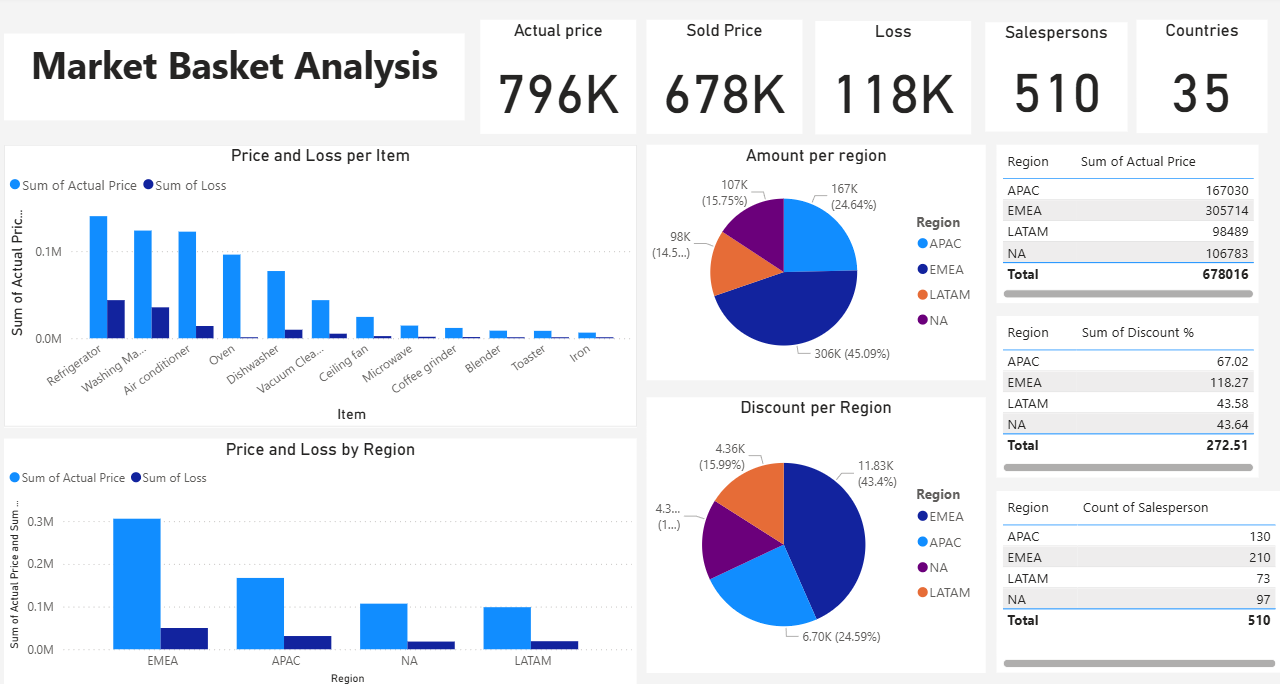

What the dashboard file says about the page in this screenshot:
{"tool":"powerbi","page":{"name":"Page 1","canvas":[1280,720],"ordinal":0},"visuals":[{"type":"card","title":"Sold Price","fields":{"Values":["Sum(Sheet1.Actual Price)"]},"box":[649.1,23.3,155.1,113.9],"z":0},{"type":"pieChart","title":"Amount per region","fields":{"Y":["Sum(Sheet1.Actual Price)"],"Series":["Sheet1.Region"]},"box":[649.1,148.2,337.6,234.6],"z":1000},{"type":"clusteredColumnChart","title":" Price and Loss per Item","fields":{"Category":["Sheet1.Item"],"Y":["Sum(Sheet1.Actual Price)","Sum(Sheet1.Loss)"]},"box":[9.6,148.2,629.8,281.3],"z":2000},{"type":"pieChart","title":" Discount per Region","fields":{"Y":["Sum(Sheet1.Discount)"],"Category":["Sheet1.Region"]},"box":[649.1,399.3,337.6,274.4],"z":3000},{"type":"clusteredColumnChart","title":"Price and Loss by Region","fields":{"Y":["Sum(Sheet1.Actual Price)","Sum(Sheet1.Loss)"],"Category":["Sheet1.Region"]},"box":[9.6,440.5,629.8,249.7],"z":4000},{"type":"card","title":"Actual price","fields":{"Values":["Sum(Sheet1.List Price)"]},"box":[484.4,23.3,155.1,113.9],"z":5000},{"type":"card","title":"Loss","fields":{"Values":["Sum(Sheet1.Loss)"]},"box":[817.8,24.7,155.1,112.5],"z":6000},{"type":"textbox","box":[9.6,37,458.3,86.4],"z":7000},{"type":"tableEx","fields":{"Values":["Sheet1.Region","Sum(Sheet1.Actual Price)"]},"box":[997.6,148.2,260.7,157.8],"z":8000},{"type":"tableEx","fields":{"Values":["Sheet1.Region","Sum(Sheet1.Discount %)"]},"box":[997.6,318.4,260.7,160.5],"z":9000},{"type":"card","title":"Salespersons","fields":{"Values":["Count(Sheet1.Salesperson)"]},"box":[986.6,26.1,141.3,108.4],"z":10000},{"type":"card","title":"Countries","fields":{"Values":["Count(Sheet1.Country)"]},"box":[1137.6,23.3,130.4,112.5],"z":11000},{"type":"tableEx","fields":{"Values":["Sheet1.Region","Sheet1.Salesperson"]},"box":[997.6,492.6,282.7,181.1],"z":12000}]}

Visuals, with their boxes on the page's 1280x720 design canvas (x1, y1, x2, y2). These are canvas units, not pixel positions in the 1280x684 screenshot, which may show the page scaled, cropped or inside an application window:
"Sold Price" card: rect(649, 23, 804, 137)
"Amount per region" pieChart: rect(649, 148, 987, 383)
" Price and Loss per Item" clusteredColumnChart: rect(10, 148, 639, 430)
" Discount per Region" pieChart: rect(649, 399, 987, 674)
"Price and Loss by Region" clusteredColumnChart: rect(10, 440, 639, 690)
"Actual price" card: rect(484, 23, 640, 137)
"Loss" card: rect(818, 25, 973, 137)
textbox: rect(10, 37, 468, 123)
tableEx - Sheet1.Region x Sum(Sheet1.Actual Price): rect(998, 148, 1258, 306)
tableEx - Sheet1.Region x Sum(Sheet1.Discount %): rect(998, 318, 1258, 479)
"Salespersons" card: rect(987, 26, 1128, 134)
"Countries" card: rect(1138, 23, 1268, 136)
tableEx - Sheet1.Region x Sheet1.Salesperson: rect(998, 493, 1280, 674)
